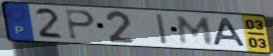2: (104, 10, 138, 45), (33, 6, 66, 41)
A: (212, 17, 249, 48)
I: (154, 12, 170, 46)
M: (176, 15, 215, 46)
P: (65, 8, 98, 42)
